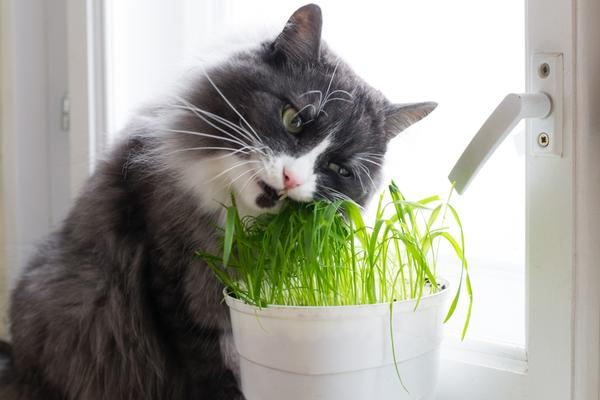cat: (1, 1, 444, 396)
plant: (186, 165, 462, 348)
